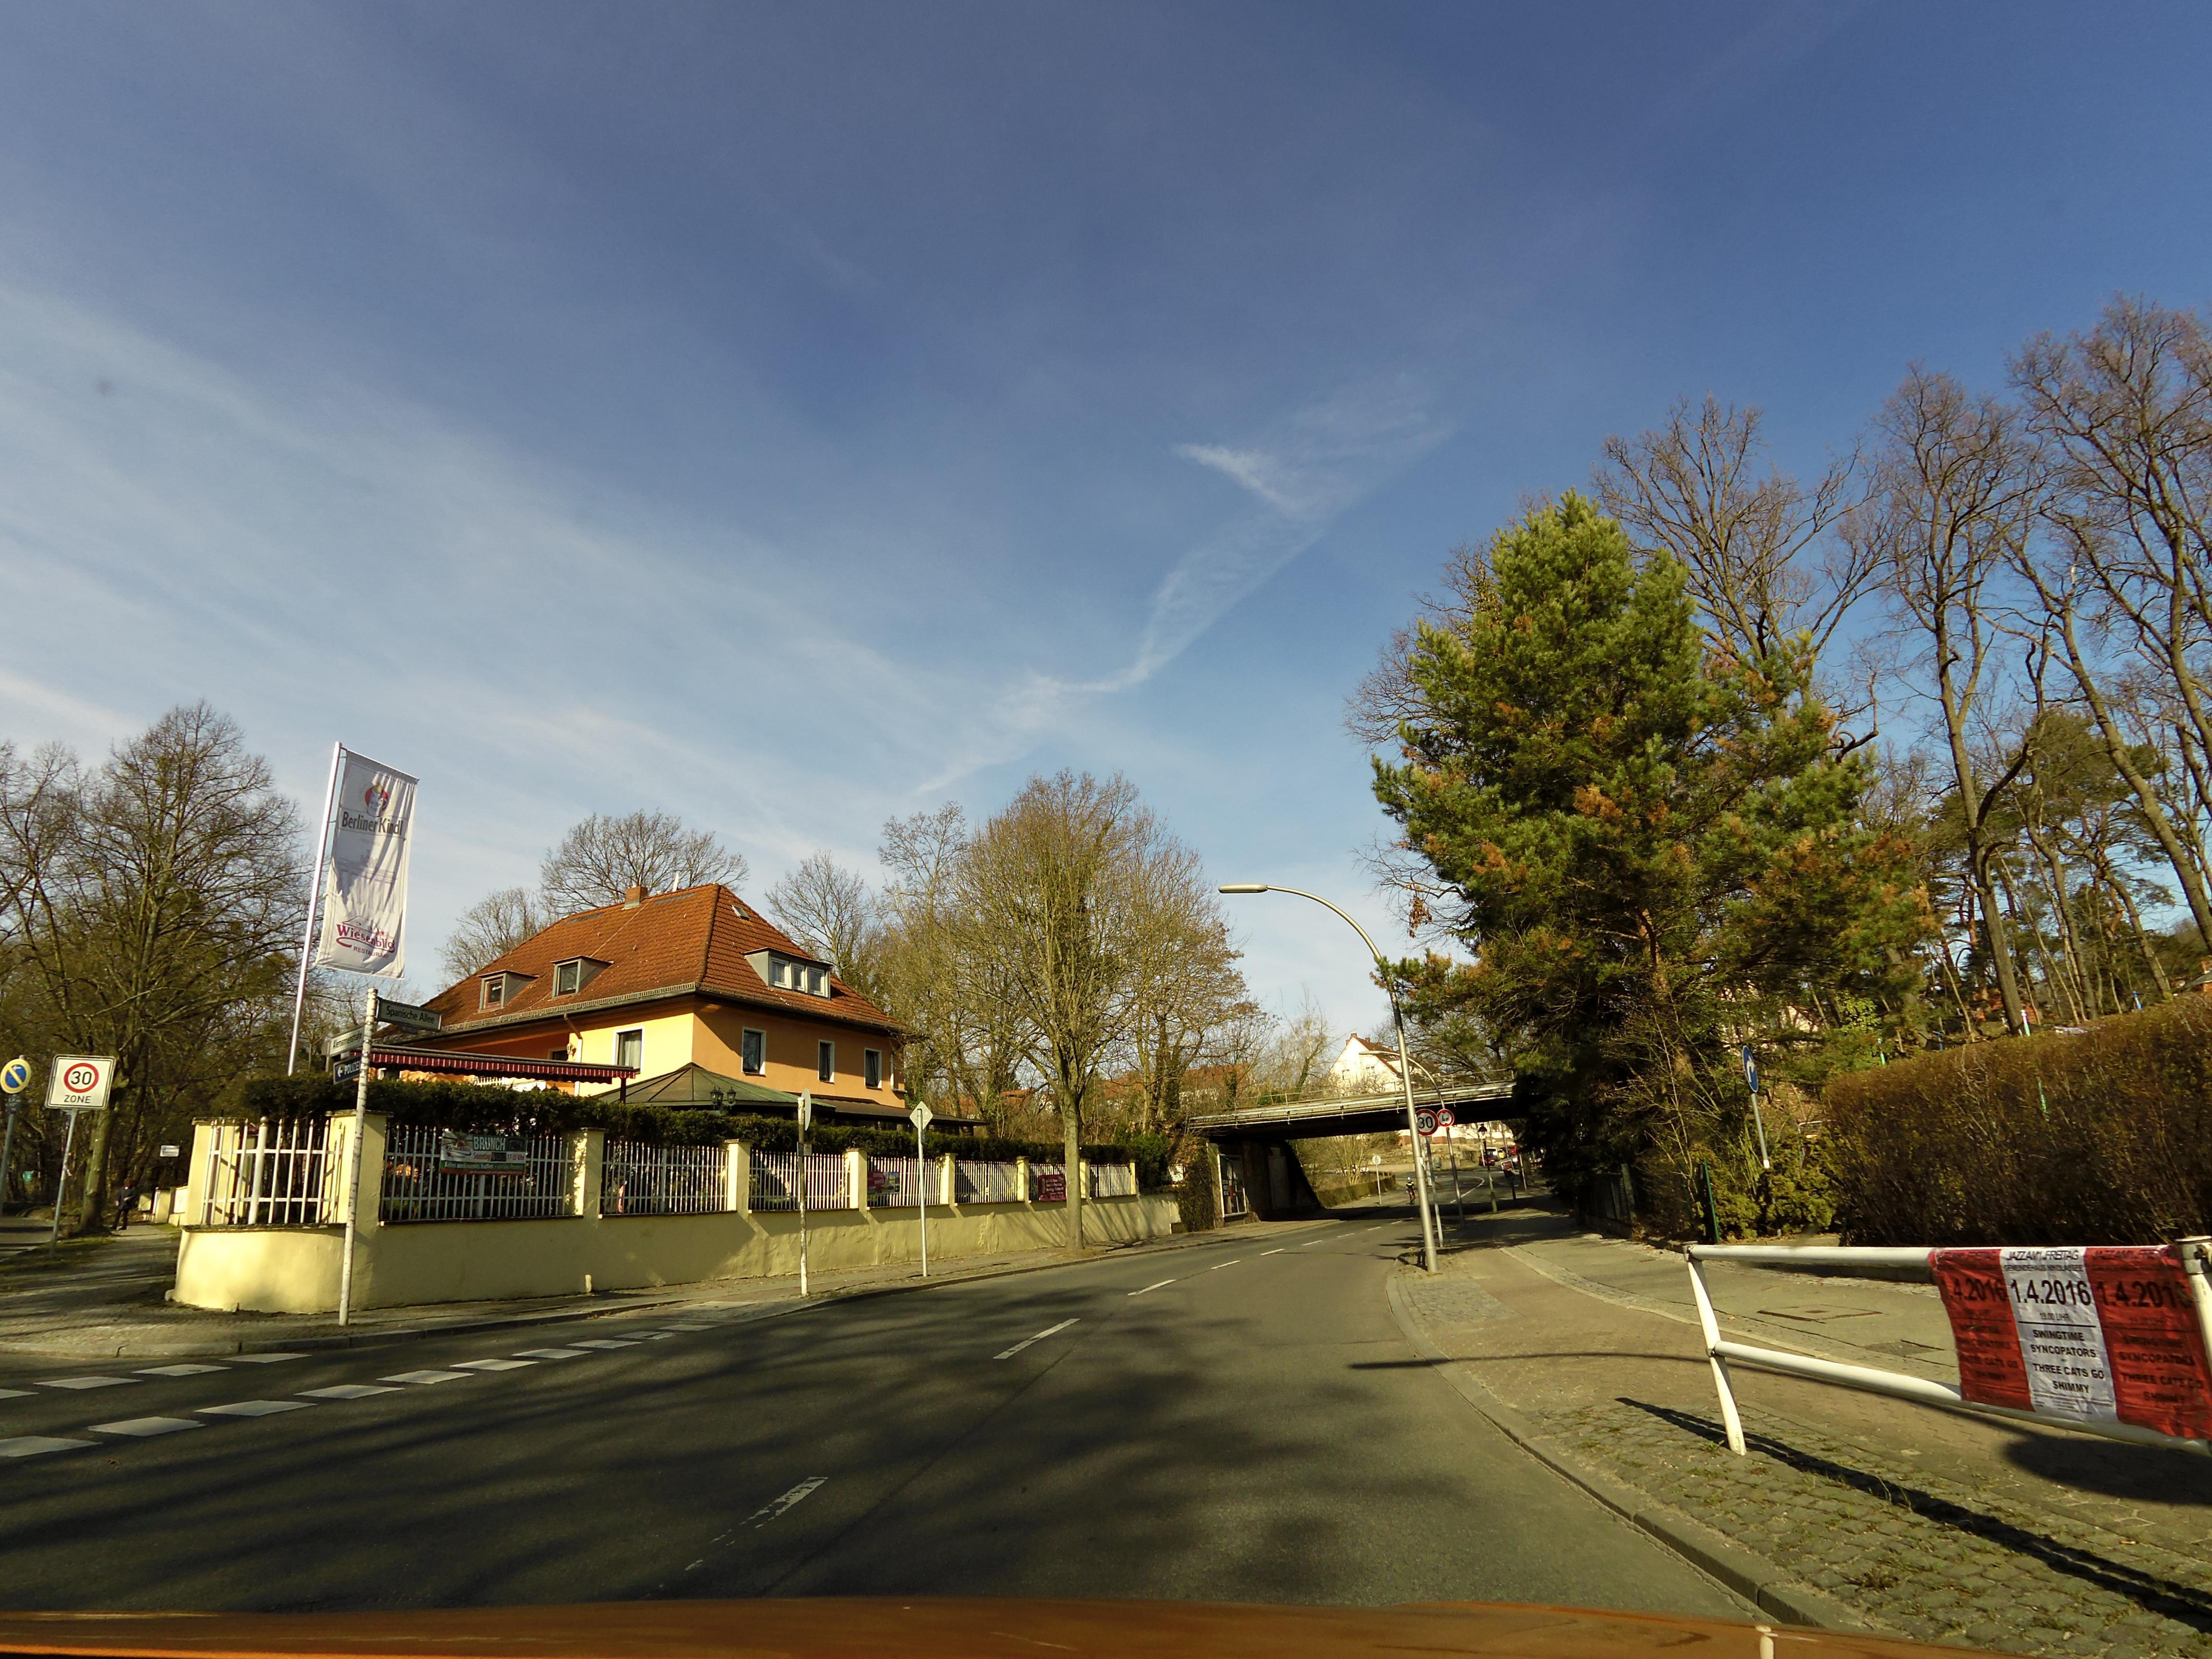vinyl banner: (1914, 1215, 2212, 1448)
